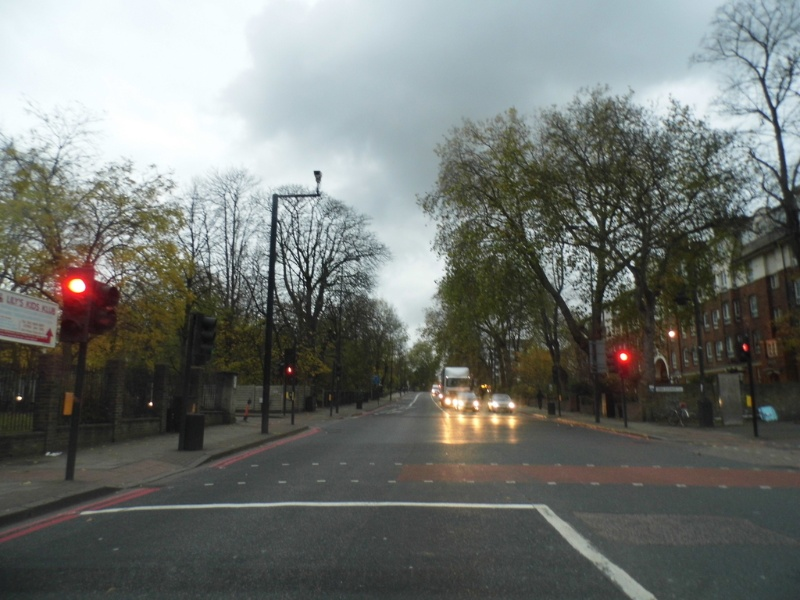red_light: (59, 269, 92, 299)
